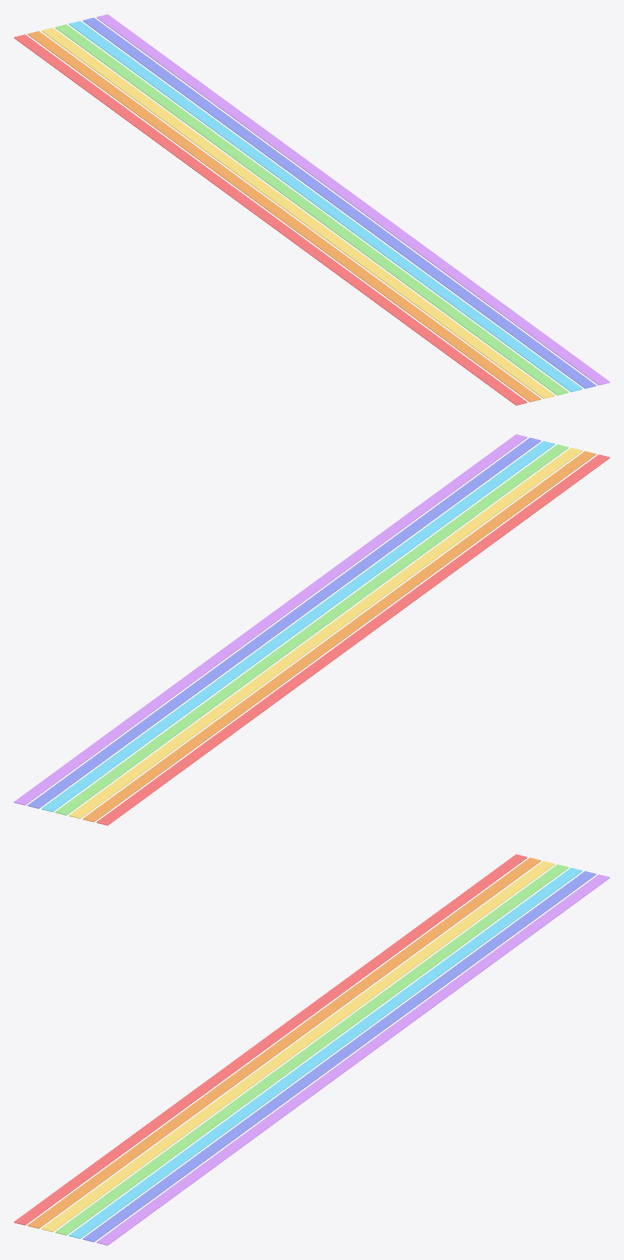
File: yggdrasil-bifrost-ribbon-merged-2026-04-25T02-17-02-006Z.high.glb
3 views of the same model, one above another, from view 1: azimuth 30°, elevation 25°; view 2: azimuth 150°, elevation 25°; view 3: azimuth 330°, elevation 25° (orthographic).
Parts seen in each view (by area): view 1: Bifrost Ribbon 1; view 2: Bifrost Ribbon 1; view 3: Bifrost Ribbon 1.
Boxes of the visible parts, box(x1,y1,x2,y2) form: Bifrost Ribbon 1: box(14, 14, 609, 405); Bifrost Ribbon 1: box(14, 434, 609, 825); Bifrost Ribbon 1: box(14, 854, 609, 1245).
Size of the model in its own units: 8.85 by 0.1001 by 82.
1 material, 1 textured.
